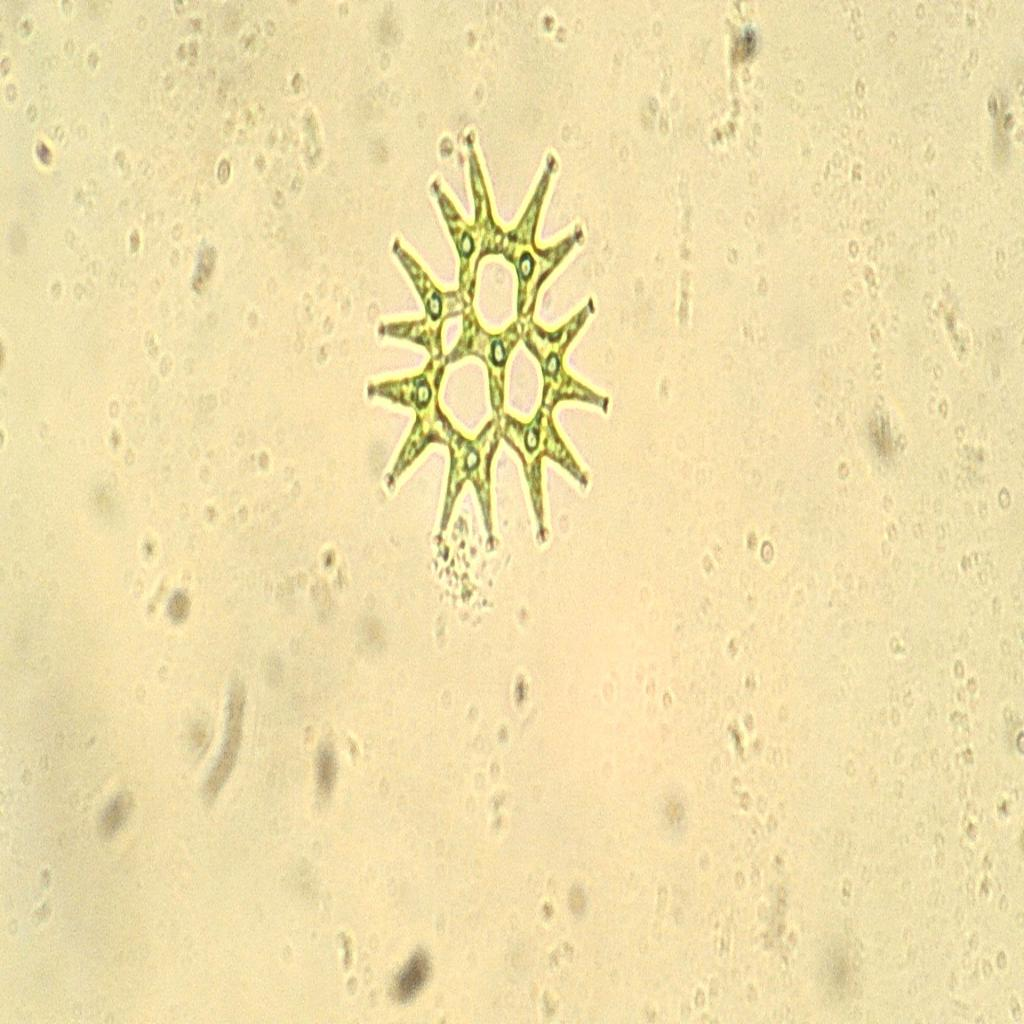Pediastrum_75T: (359, 117, 614, 566)
